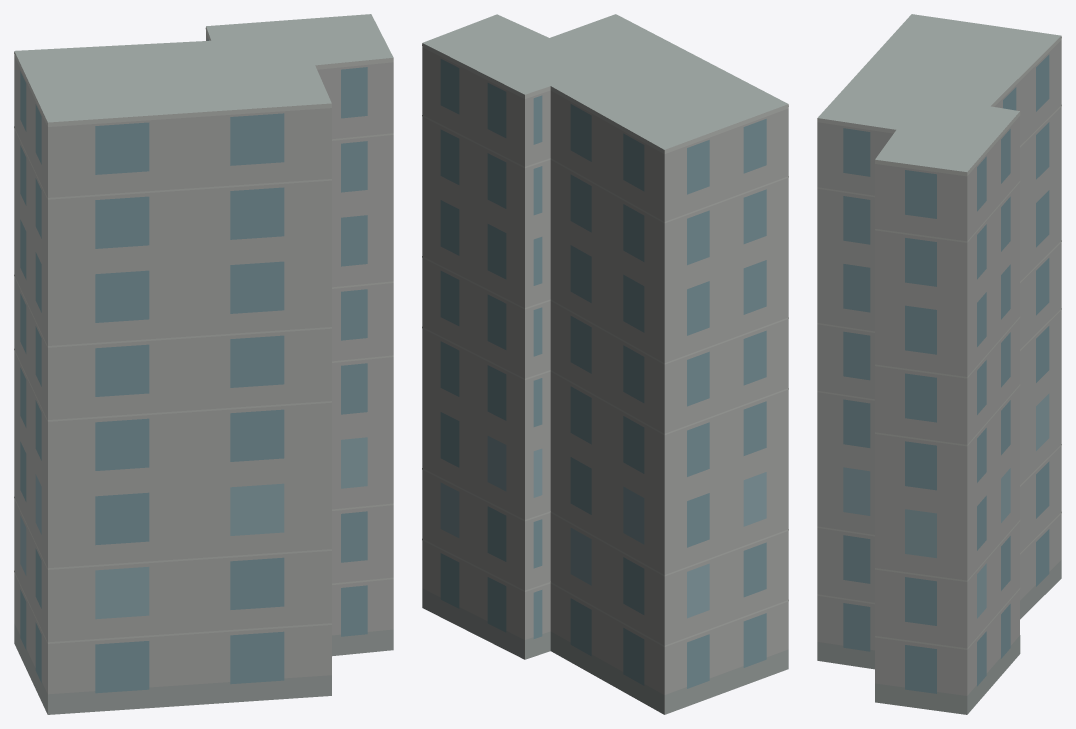
File: survey-upis-32869034.glb
3 renders of one model, left to right at view 1: azimuth 30°, elevation 25°; view 2: azimuth 150°, elevation 25°; view 3: azimuth 270°, elevation 25°, orthographic. The views are drawn at different scales.
Visible parts, largest first — view 1: survey-upis-32869034.tmp; view 2: survey-upis-32869034.tmp; view 3: survey-upis-32869034.tmp.
Part boxes in pixels (bbox=[...]): survey-upis-32869034.tmp: bbox=[14, 14, 393, 714]; survey-upis-32869034.tmp: bbox=[422, 14, 788, 714]; survey-upis-32869034.tmp: bbox=[817, 14, 1061, 714].
Bounding box in the file's own units: 19.78 × 31.6 × 12.91.
